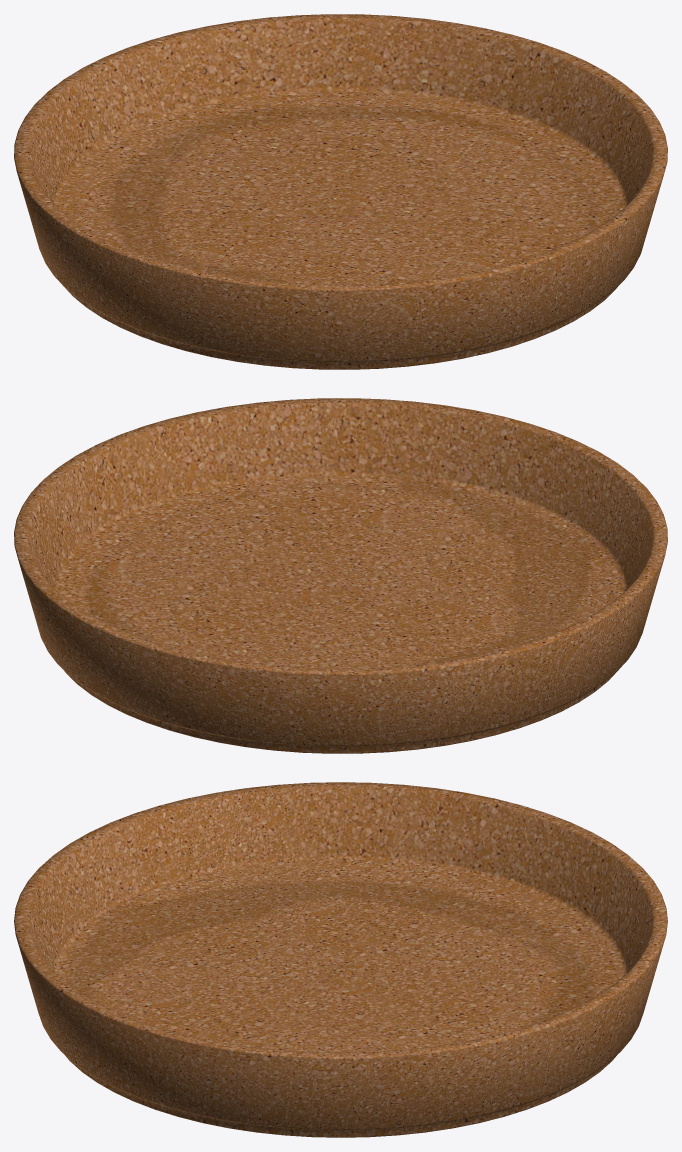
The model's file is coaster.glb.
3 renders of one model, top to bottom at view 1: azimuth 30°, elevation 25°; view 2: azimuth 150°, elevation 25°; view 3: azimuth 270°, elevation 25°, orthographic.
Visible parts, largest first — view 1: Cork_Coaster; view 2: Cork_Coaster; view 3: Cork_Coaster.
Boxes of the visible parts, <box> form: Cork_Coaster: <box>14,14,667,369</box>; Cork_Coaster: <box>14,398,667,753</box>; Cork_Coaster: <box>14,782,667,1137</box>.
Bounding box in the file's own units: 0.0964 × 0.0157 × 0.0964.
1 material, 1 textured.
